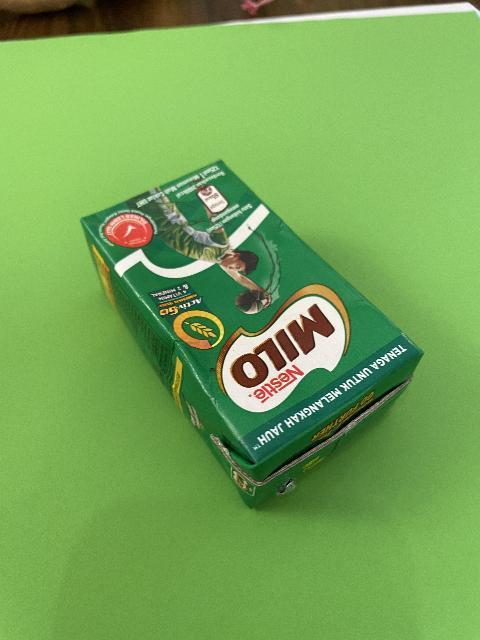drinkpack: (79, 158, 426, 512)
